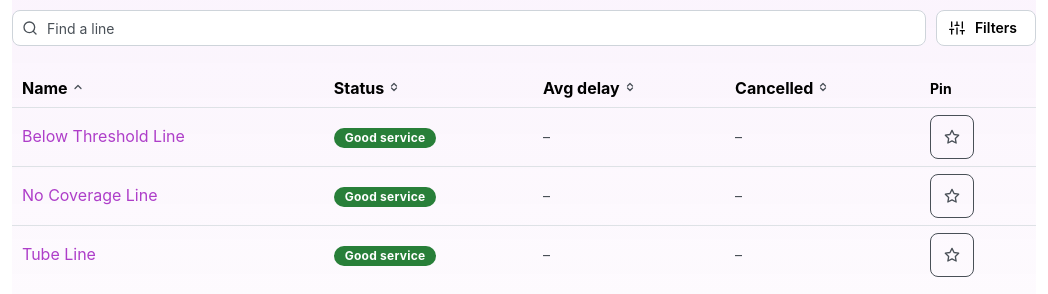
Scenario: AllLinesTable dash tooltip › shows the no-coverage reason on hover for a line with zero StationSample rows
Note: The tooltip wraps the cell text, whose en dash is an aria-hidden span.
Step 1. Hover over the 3rd element showing "–" → (568, 205), box [542,187,594,223]
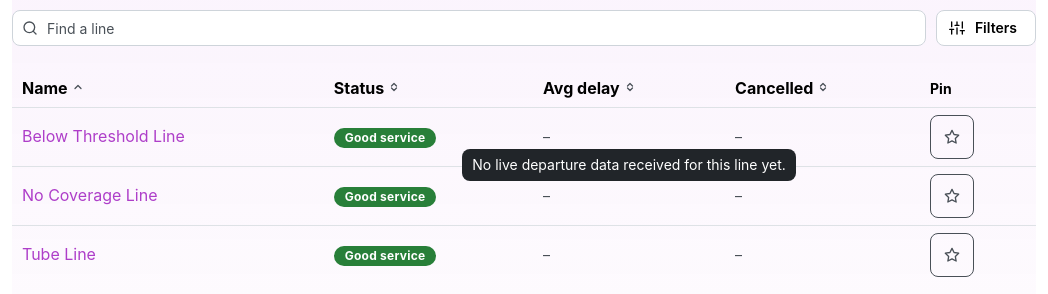
expect the tooltip reads "No live departure data received for this line yet.": met, box [472,156,786,173]
